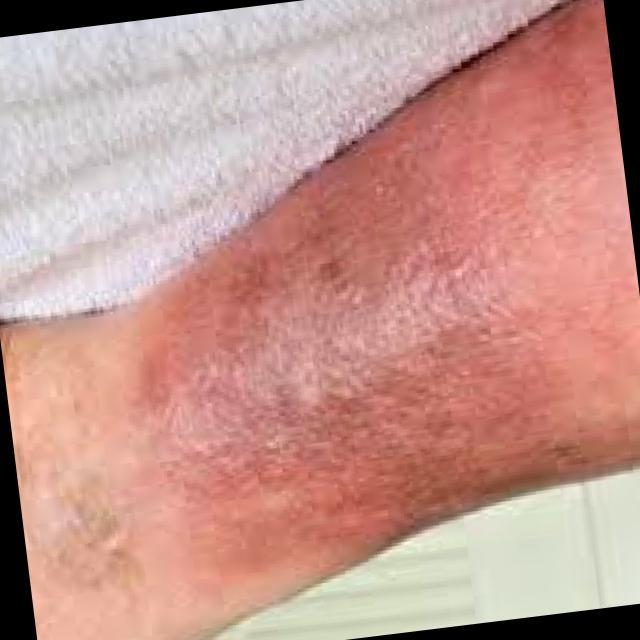Eczema: (108, 96, 547, 530)
